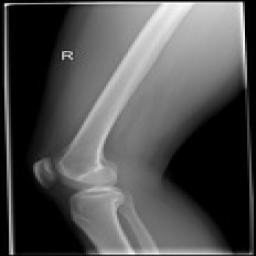cancer: (114, 9, 190, 97)
